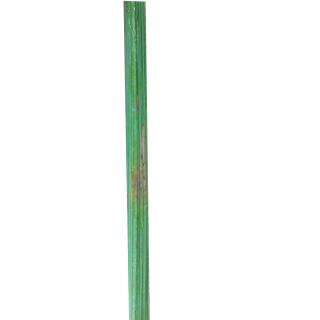Blast: (131, 122, 146, 220), (136, 90, 140, 115)
